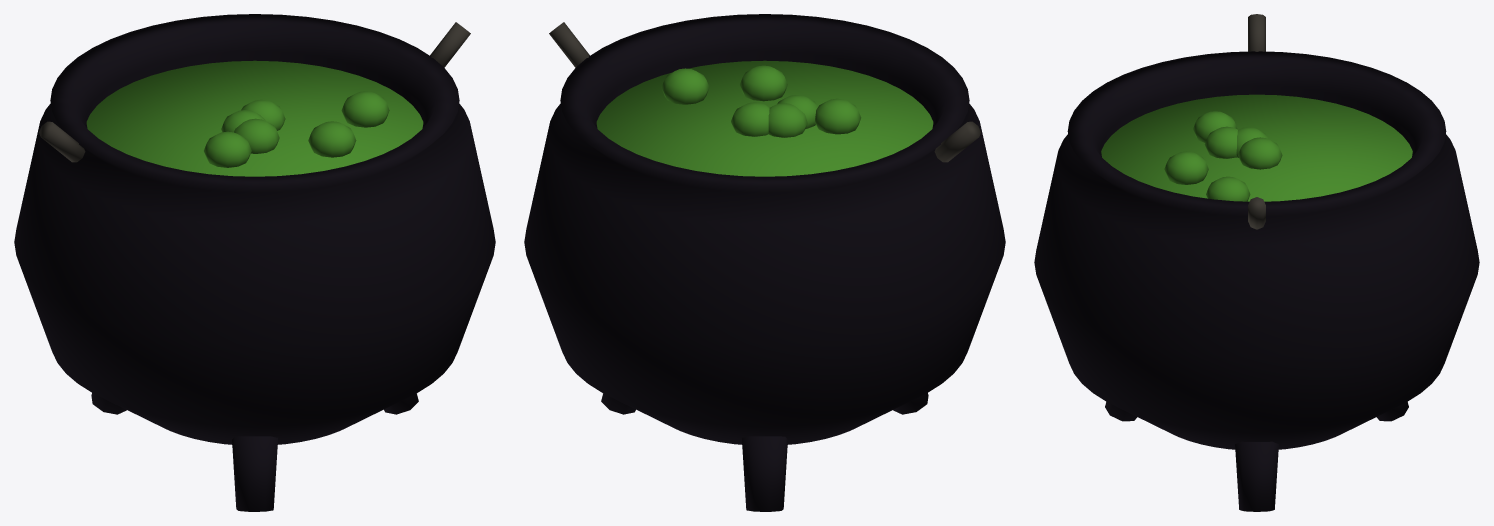
File: cauldron.obj
3 views of the same model, side by side, from view 1: azimuth 30°, elevation 25°; view 2: azimuth 150°, elevation 25°; view 3: azimuth 270°, elevation 25° (orthographic). The views are drawn at different scales.
Visible parts, largest first — view 1: LH_cauldron; view 2: LH_cauldron; view 3: LH_cauldron.
Part boxes in pixels (x1,y1,x2,y2): LH_cauldron: [14, 14, 495, 511]; LH_cauldron: [524, 14, 1005, 511]; LH_cauldron: [1034, 14, 1479, 511].
Size of the model in its own units: 0.4113 by 0.3407 by 0.4.
